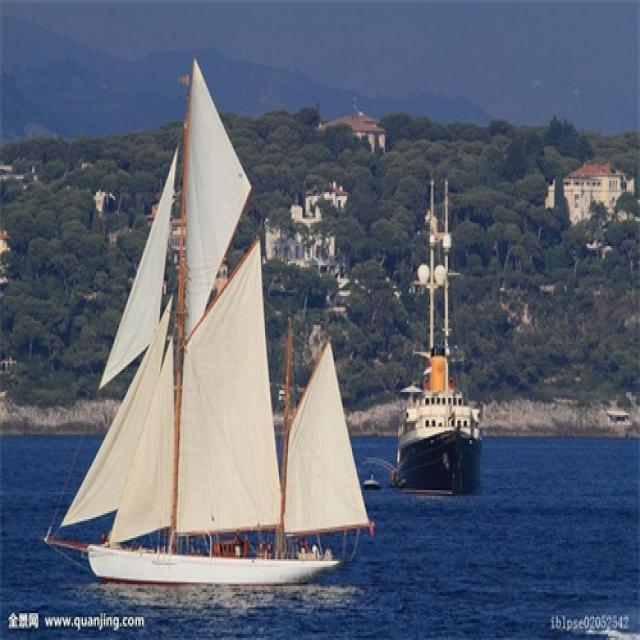Ship: (59, 66, 372, 585), (403, 169, 489, 498)
